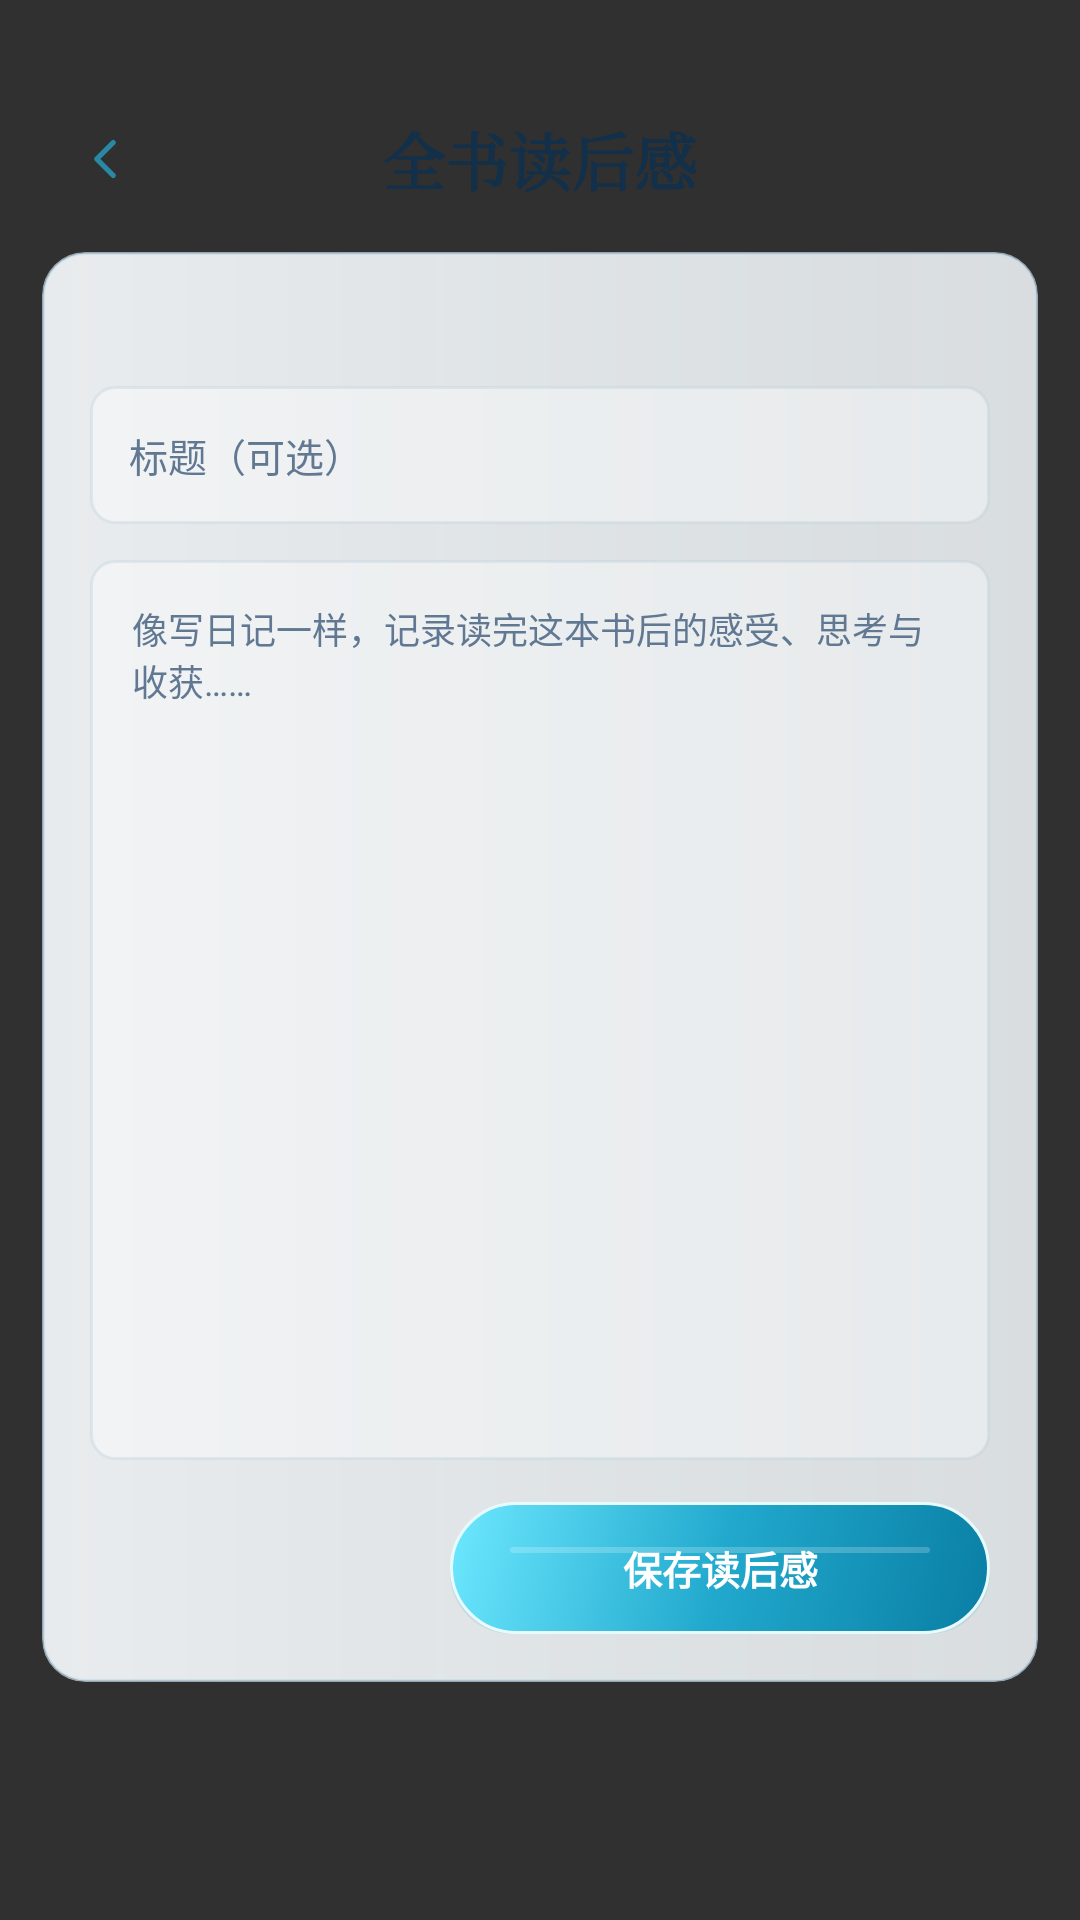

Where to tap for icons on this 1080px x 1920px app screen, as point (x, y):
返回: point (105, 159)
